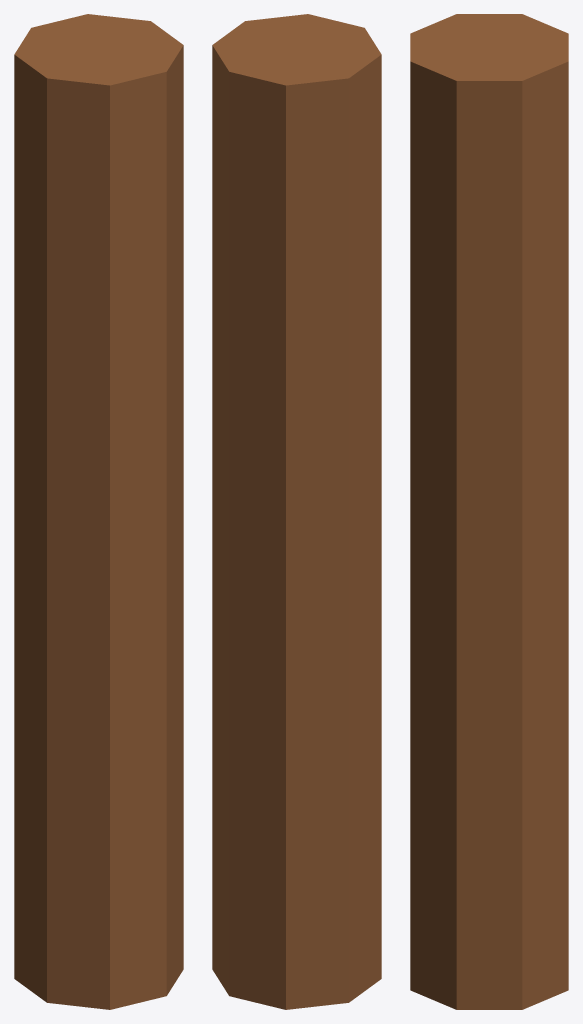
Rendered from Pole.fbx.
The picture shows the model from 3 angles, left to right: view 1: azimuth 30°, elevation 25°; view 2: azimuth 150°, elevation 25°; view 3: azimuth 270°, elevation 25°; orthographic projection.
Visible parts, largest first — view 1: Pole; view 2: Pole; view 3: Pole.
Boxes of the visible parts, x1=… form: Pole: x1=14, y1=14, x2=183, y2=1009; Pole: x1=212, y1=14, x2=381, y2=1009; Pole: x1=410, y1=14, x2=568, y2=1009.
Bounding box in the file's own units: 44.49 × 288 × 44.49.
